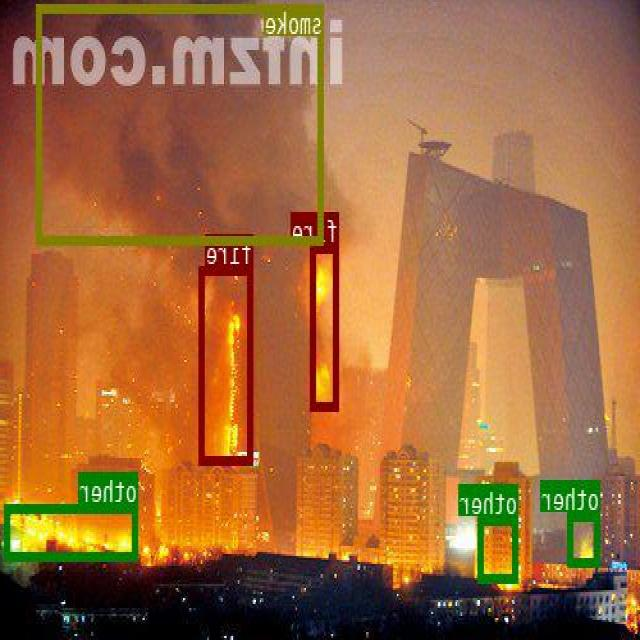fire: (200, 265, 254, 462), (312, 242, 339, 408)
other: (6, 503, 139, 560), (480, 514, 519, 581), (569, 510, 601, 566)
smoke: (37, 3, 324, 242)
